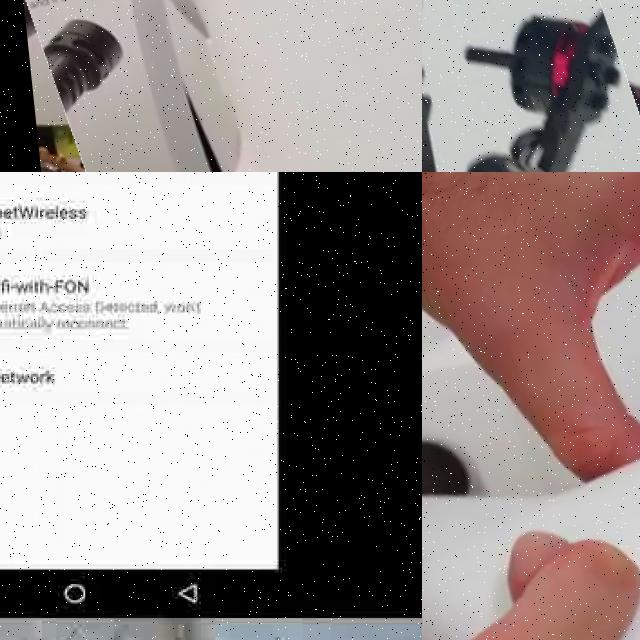drone: (422, 172, 640, 640), (0, 0, 422, 172), (422, 0, 640, 172)
